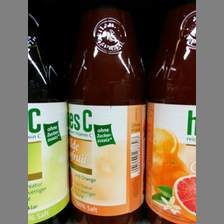juice: (69, 6, 147, 224), (146, 6, 196, 224), (29, 10, 71, 223)
